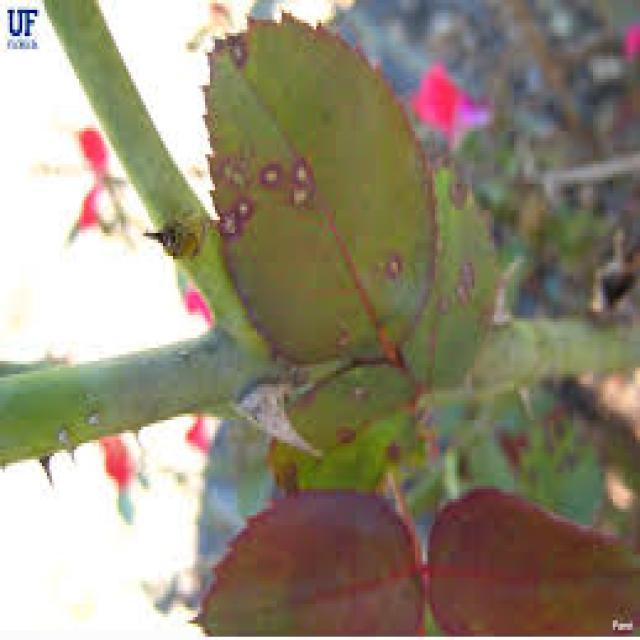leaf: (200, 12, 436, 365)
